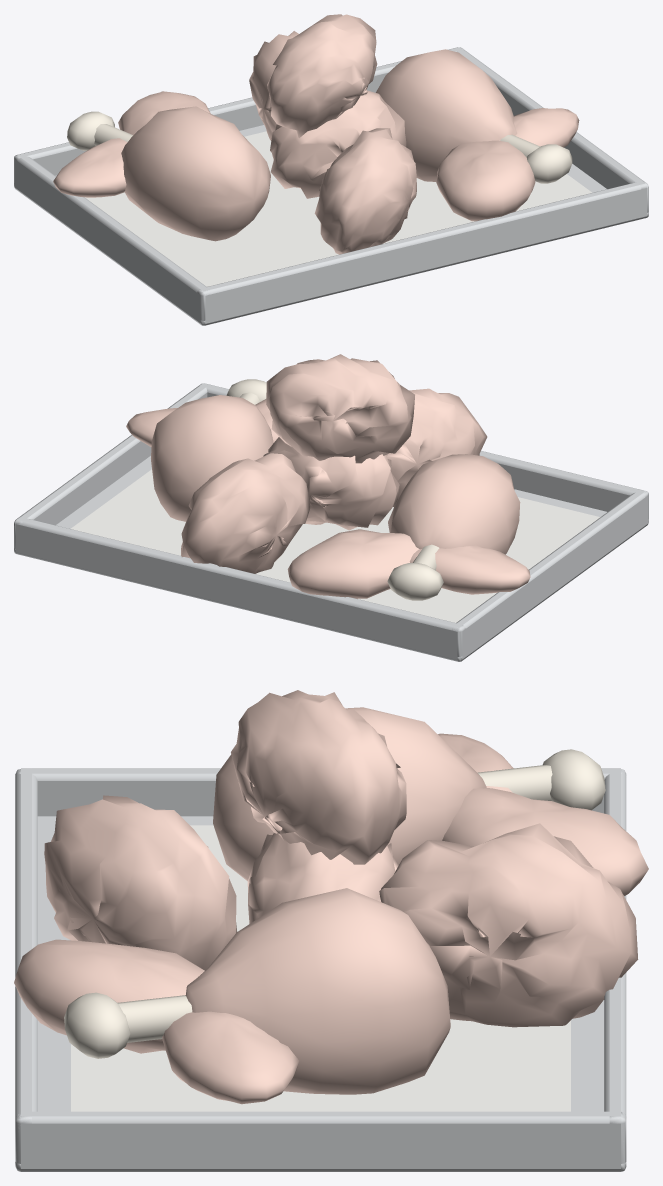
The model's file is Chicken_Raw.fbx.
3 views of the same model, one above another, from view 1: azimuth 30°, elevation 25°; view 2: azimuth 150°, elevation 25°; view 3: azimuth 270°, elevation 25° (orthographic). The views are drawn at different scales.
Visible parts, largest first — view 1: Chicken_Raw; view 2: Chicken_Raw; view 3: Chicken_Raw.
Part boxes in pixels (x1,y1,x2,y2): Chicken_Raw: [14, 14, 648, 325]; Chicken_Raw: [14, 354, 648, 661]; Chicken_Raw: [14, 690, 648, 1171].
Size of the model in its own units: 0.3078 by 0.1204 by 0.2286.
